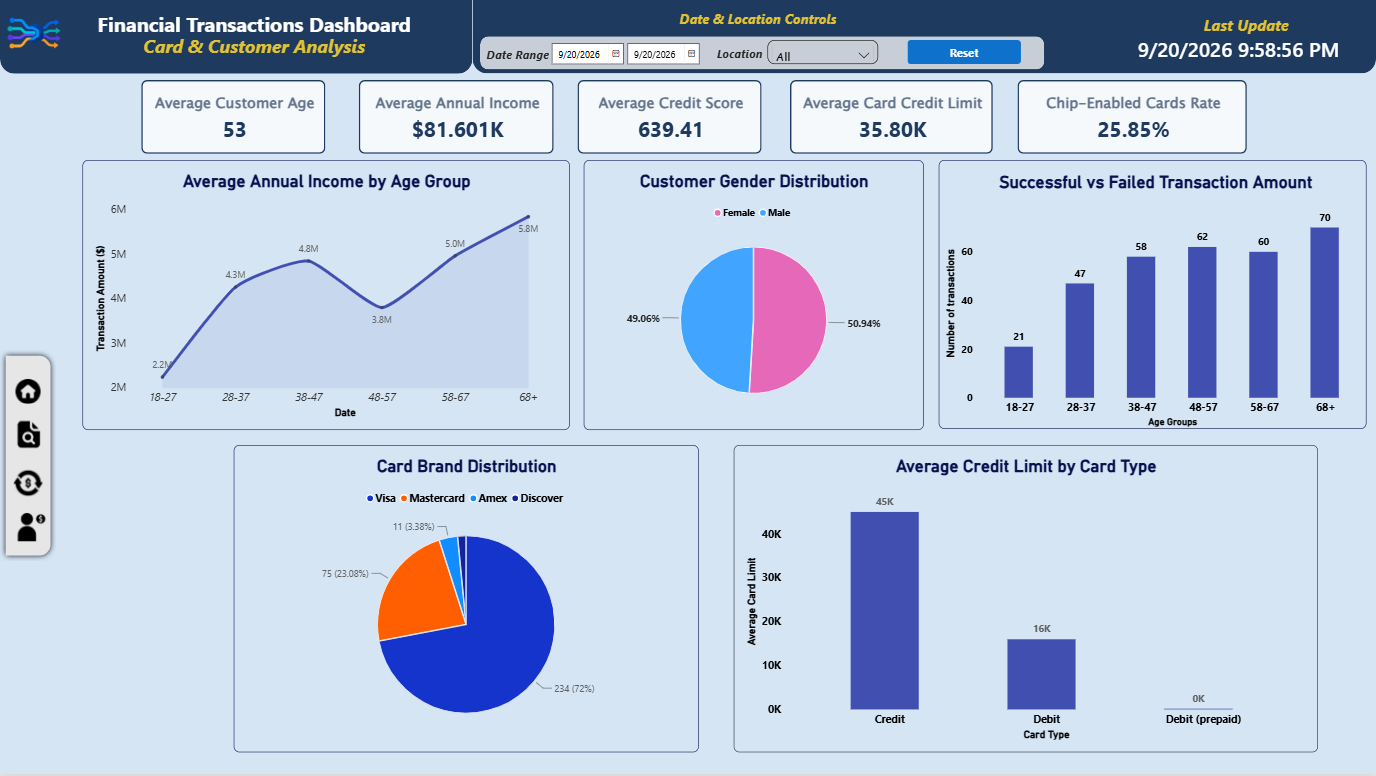

The page's visual inventory and layout, read from the dashboard file:
{"tool":"powerbi","page":{"name":"Card & Customer","canvas":[1920,1080],"ordinal":3},"visuals":[{"type":"shape","box":[0,0,659.3,102.9],"z":0},{"type":"shape","box":[670.3,50.3,787.6,46.5],"z":0,"group":"g1"},{"type":"shape","box":[0,489,78.5,294.8],"z":0,"group":"g2"},{"type":"slicer","fields":{"Values":["fact_transactions.timestamp"]},"box":[763.4,55.8,223.4,37.2],"z":1000,"group":"g1"},{"type":"cardVisual","fields":{"Data":["dim_customer.Average Customer Age"]},"box":[196.8,112.2,257.5,103],"z":1000},{"type":"image","box":[0,3.5,94.2,85.5],"z":2000},{"type":"shape","box":[674,50.3,98.7,50.3],"z":2000,"group":"g1"},{"type":"shape","box":[659.2,0,1260.8,102.7],"z":3000},{"type":"shape","box":[983.1,48.4,100.5,50.3],"z":3000,"group":"g1"},{"type":"shape","box":[136.9,3.6,437.7,59.4],"z":4000},{"type":"slicer","fields":{"Values":["dim_merchant.merchant_state"]},"box":[1070.6,55.8,154.5,33.5],"z":4000,"group":"g1"},{"type":"shape","box":[161.3,38.9,388.7,50.5],"z":5000},{"type":"actionButton","box":[1266.1,55.8,158.3,33.5],"z":5000,"group":"g1"},{"type":"cardVisual","title":"Last Update","fields":{"Data":["Min(Last_Update.Last Update)"]},"box":[1571.5,46.5,337,42.8],"z":6000},{"type":"shape","box":[1625.5,16.8,227.2,33.5],"z":7000},{"type":"shape","box":[919.8,0,277.4,50.3],"z":8000},{"type":"group","id":"g1","title":"Group 1","box":[670.3,48.4,787.6,52.1],"z":9000},{"type":"cardVisual","fields":{"Data":["dim_card.Chip-Enabled Cards Rate"]},"box":[1420,112.2,320.1,103],"z":10000},{"type":"group","id":"g2","title":"Group 2","box":[0,489,79.3,294.8],"z":11000},{"type":"lineChart","title":"Average Annual Income by Age Group","fields":{"Category":["dim_customer.Age Groups"],"Y":["Sum(dim_customer.annual_income)"]},"box":[114.7,223.5,680.3,377.1],"z":12000},{"type":"pieChart","title":"Customer Gender Distribution","fields":{"Category":["dim_customer.gender"],"Y":["CountNonNull(dim_customer.customer_id)"]},"box":[814.4,223.5,474.3,377.1],"z":13000},{"type":"clusteredColumnChart","title":"Successful vs Failed Transaction Amount","fields":{"Category":["dim_customer.Age Groups"],"Y":["CountNonNull(dim_customer.customer_id)"]},"box":[1310.1,223.5,596.7,375.1],"z":14000},{"type":"clusteredColumnChart","title":"Average Credit Limit by Card Type","fields":{"Category":["dim_card.card_type"],"Y":["Avg(dim_card.card_limit)"]},"box":[1024.6,621.7,814.9,428.6],"z":15000},{"type":"actionButton","box":[0.7,514.1,78.3,66.3],"z":16000,"group":"g2"},{"type":"pieChart","title":"Card Brand Distribution","fields":{"Category":["dim_card.card_brand"],"Y":["CountNonNull(dim_card.card_id)"]},"box":[326.2,620.9,648.8,429.1],"z":16000},{"type":"actionButton","box":[11.1,577,57.4,61.1],"z":17000,"group":"g2"},{"type":"actionButton","box":[10.9,643.5,57.5,60.6],"z":17000},{"type":"cardVisual","fields":{"Data":["dim_customer.Average Annual Income"]},"box":[500.3,112.2,272.2,103],"z":18000},{"type":"cardVisual","fields":{"Data":["dim_customer.Average Credit Score"]},"box":[805.7,112.2,257.5,103],"z":19000},{"type":"actionButton","box":[8,700.5,71.2,71.5],"z":19000,"group":"g2"},{"type":"cardVisual","fields":{"Data":["dim_card.Average Card Credit Limit"]},"box":[1101.8,112.2,283.3,103],"z":20000}]}

Visuals, with their boxes in screenshot pixels (x1, y1, x2, y2), scaled from the page's 1920x1080 canvas onto the 1376x776 screenshot:
shape: left=0, top=0, right=472, bottom=74
shape: left=480, top=36, right=1045, bottom=70
shape: left=0, top=351, right=56, bottom=563
slicer - fact_transactions.timestamp: left=547, top=40, right=707, bottom=67
cardVisual - dim_customer.Average Customer Age: left=141, top=81, right=326, bottom=155
image: left=0, top=3, right=68, bottom=64
shape: left=483, top=36, right=554, bottom=72
shape: left=472, top=0, right=1375, bottom=74
shape: left=705, top=35, right=777, bottom=71
shape: left=98, top=3, right=412, bottom=45
slicer - dim_merchant.merchant_state: left=767, top=40, right=878, bottom=64
shape: left=116, top=28, right=394, bottom=64
actionButton: left=907, top=40, right=1021, bottom=64
"Last Update" cardVisual: left=1126, top=33, right=1368, bottom=64
shape: left=1165, top=12, right=1328, bottom=36
shape: left=659, top=0, right=858, bottom=36
"Group 1" group: left=480, top=35, right=1045, bottom=72
cardVisual - dim_card.Chip-Enabled Cards Rate: left=1018, top=81, right=1247, bottom=155
"Group 2" group: left=0, top=351, right=57, bottom=563
"Average Annual Income by Age Group" lineChart: left=82, top=161, right=570, bottom=432
"Customer Gender Distribution" pieChart: left=584, top=161, right=924, bottom=432
"Successful vs Failed Transaction Amount" clusteredColumnChart: left=939, top=161, right=1367, bottom=430
"Average Credit Limit by Card Type" clusteredColumnChart: left=734, top=447, right=1318, bottom=755
actionButton: left=1, top=369, right=57, bottom=417
"Card Brand Distribution" pieChart: left=234, top=446, right=699, bottom=754
actionButton: left=8, top=415, right=49, bottom=458
actionButton: left=8, top=462, right=49, bottom=506
cardVisual - dim_customer.Average Annual Income: left=359, top=81, right=554, bottom=155
cardVisual - dim_customer.Average Credit Score: left=577, top=81, right=762, bottom=155
actionButton: left=6, top=503, right=57, bottom=555
cardVisual - dim_card.Average Card Credit Limit: left=790, top=81, right=993, bottom=155
